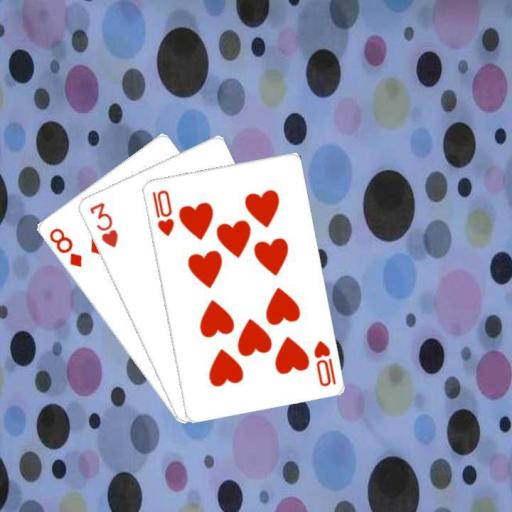10H: (148, 187, 175, 238), (310, 337, 337, 388)
3H: (86, 198, 120, 249)
8D: (46, 225, 83, 269)
